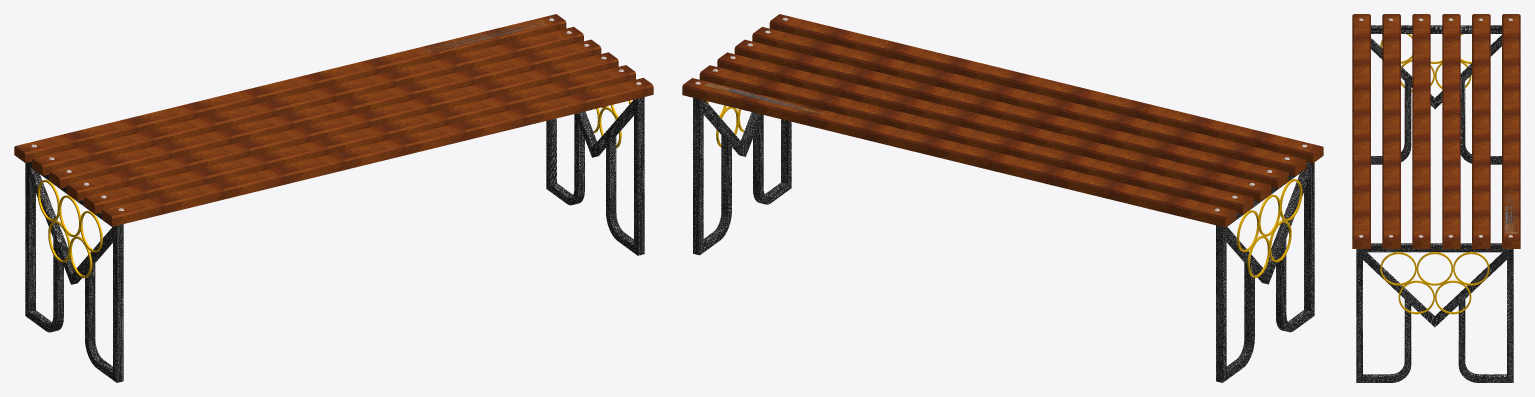
3 views of the same model, side by side, from view 1: azimuth 30°, elevation 25°; view 2: azimuth 150°, elevation 25°; view 3: azimuth 270°, elevation 25° (orthographic). The views are drawn at different scales.
Visible parts, largest first — view 1: mesh1_mesh1-geometry, mesh25_mesh25-geometry, mesh7_mesh7-geometry, mesh36_mesh36-geometry, mesh18_mesh18-geometry, mesh38_mesh38-geometry; view 2: mesh1_mesh1-geometry, mesh7_mesh7-geometry, mesh25_mesh25-geometry, mesh18_mesh18-geometry, mesh36_mesh36-geometry; view 3: mesh1_mesh1-geometry, mesh7_mesh7-geometry, mesh25_mesh25-geometry, mesh36_mesh36-geometry, mesh18_mesh18-geometry, mesh38_mesh38-geometry, mesh26_mesh26-geometry, mesh8_mesh8-geometry, mesh2_mesh2-geometry, mesh20_mesh20-geometry, mesh31_mesh31-geometry.
Part boxes in pixels (x1,y1,x2,y2): mesh1_mesh1-geometry: (14, 14, 653, 226); mesh25_mesh25-geometry: (25, 97, 644, 332); mesh7_mesh7-geometry: (71, 114, 584, 382); mesh36_mesh36-geometry: (29, 100, 633, 283); mesh18_mesh18-geometry: (71, 111, 596, 284); mesh38_mesh38-geometry: (422, 20, 547, 52); mesh1_mesh1-geometry: (682, 14, 1323, 227); mesh7_mesh7-geometry: (693, 97, 1314, 332); mesh25_mesh25-geometry: (753, 114, 1268, 382); mesh18_mesh18-geometry: (703, 100, 1310, 283); mesh36_mesh36-geometry: (741, 112, 1268, 284); mesh1_mesh1-geometry: (1352, 14, 1520, 248); mesh7_mesh7-geometry: (1371, 25, 1513, 382); mesh25_mesh25-geometry: (1356, 25, 1501, 382); mesh36_mesh36-geometry: (1363, 35, 1501, 327); mesh18_mesh18-geometry: (1371, 38, 1506, 326); mesh38_mesh38-geometry: (1504, 186, 1517, 233); mesh26_mesh26-geometry: (1398, 61, 1471, 314); mesh8_mesh8-geometry: (1401, 59, 1471, 314); mesh2_mesh2-geometry: (1380, 34, 1489, 285); mesh20_mesh20-geometry: (1380, 34, 1471, 285); mesh31_mesh31-geometry: (1416, 60, 1442, 285).
Bounding box in the file's own units: 0.9174 × 0.2752 × 0.2875.
